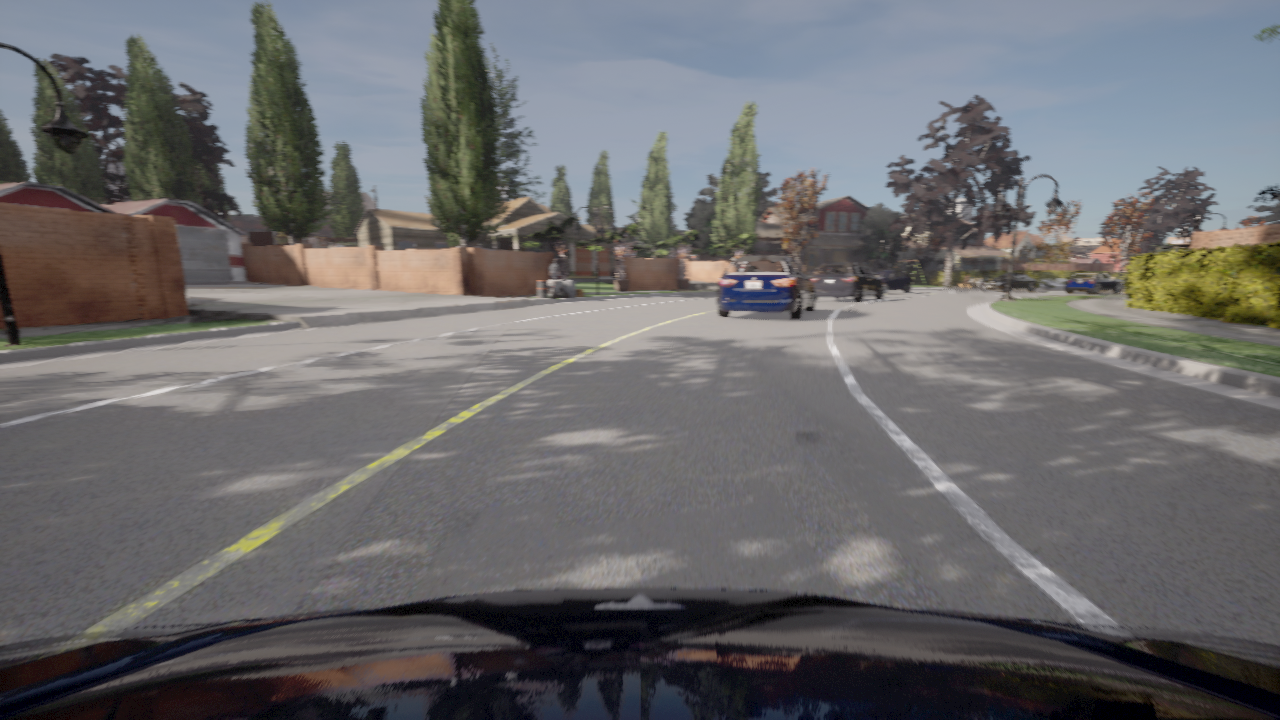cyclist: (0, 588, 1279, 719), (716, 256, 815, 320), (809, 263, 883, 302), (1064, 273, 1121, 293), (980, 273, 1036, 292), (874, 270, 910, 293), (611, 267, 616, 277)
pedestrian: (550, 258, 560, 278)
